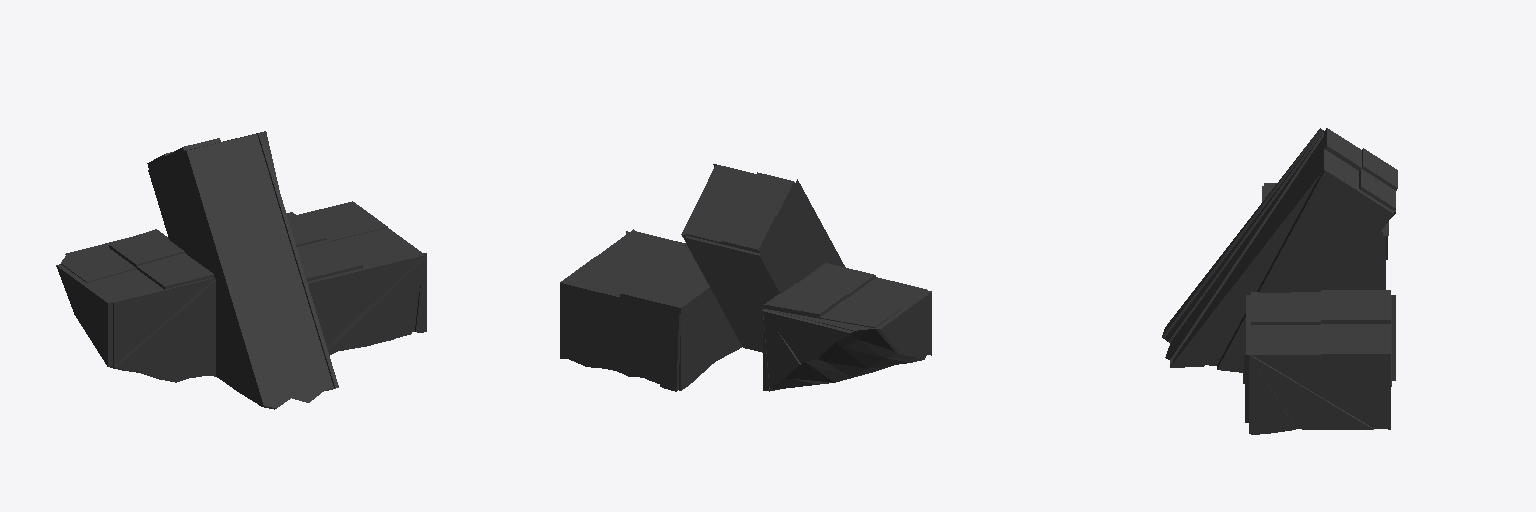
The model's file is caveentrance_1.obj.
The picture shows the model from 3 angles: view 1: azimuth 30°, elevation 25°; view 2: azimuth 150°, elevation 25°; view 3: azimuth 270°, elevation 25°; orthographic projection.
Parts seen in each view (by area): view 1: Cube_Cube.001, Cube.002_Cube.004, Cube.001_Cube.002; view 2: Cube.001_Cube.002, Cube.002_Cube.004, Cube_Cube.001; view 3: Cube_Cube.001, Cube.001_Cube.002, Cube.002_Cube.004.
Boxes of the visible parts, <box> form: Cube_Cube.001: <box>147,131,338,409</box>; Cube.002_Cube.004: <box>56,229,215,382</box>; Cube.001_Cube.002: <box>286,201,426,355</box>; Cube.001_Cube.002: <box>560,229,741,391</box>; Cube.002_Cube.004: <box>762,263,931,391</box>; Cube_Cube.001: <box>681,164,845,352</box>; Cube_Cube.001: <box>1162,128,1397,372</box>; Cube.001_Cube.002: <box>1243,290,1395,434</box>; Cube.002_Cube.004: <box>1262,183,1388,289</box>.
Size of the model in its own units: 3.35 by 2.13 by 2.2.